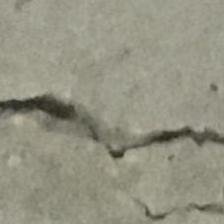Crack: (4, 98, 223, 224)
